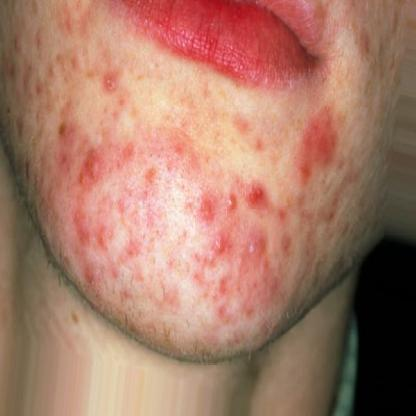Acne: (218, 185, 242, 221), (210, 226, 231, 259)
